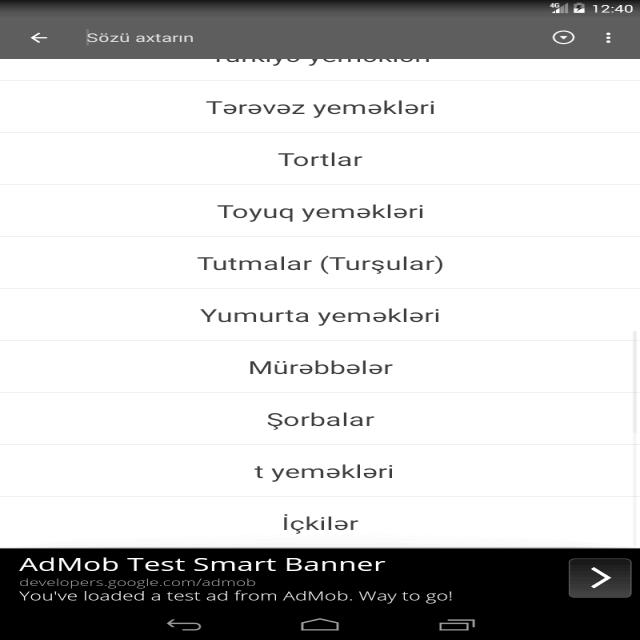Button: (564, 555, 638, 600)
ImageButton: (20, 27, 58, 49), (546, 27, 580, 47), (594, 27, 620, 47)
TextView: (11, 553, 391, 577), (190, 93, 448, 125), (212, 198, 446, 228), (18, 588, 456, 604), (193, 304, 447, 328), (255, 407, 382, 431), (272, 508, 366, 538)
